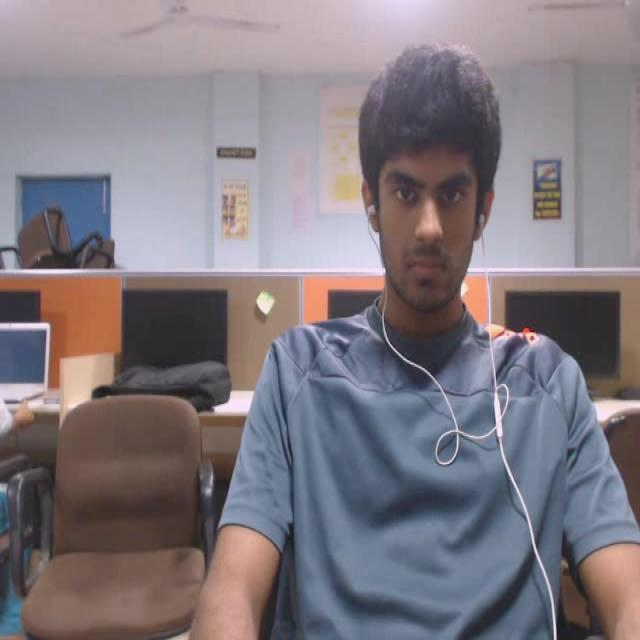Engaged: (341, 34, 527, 356)
